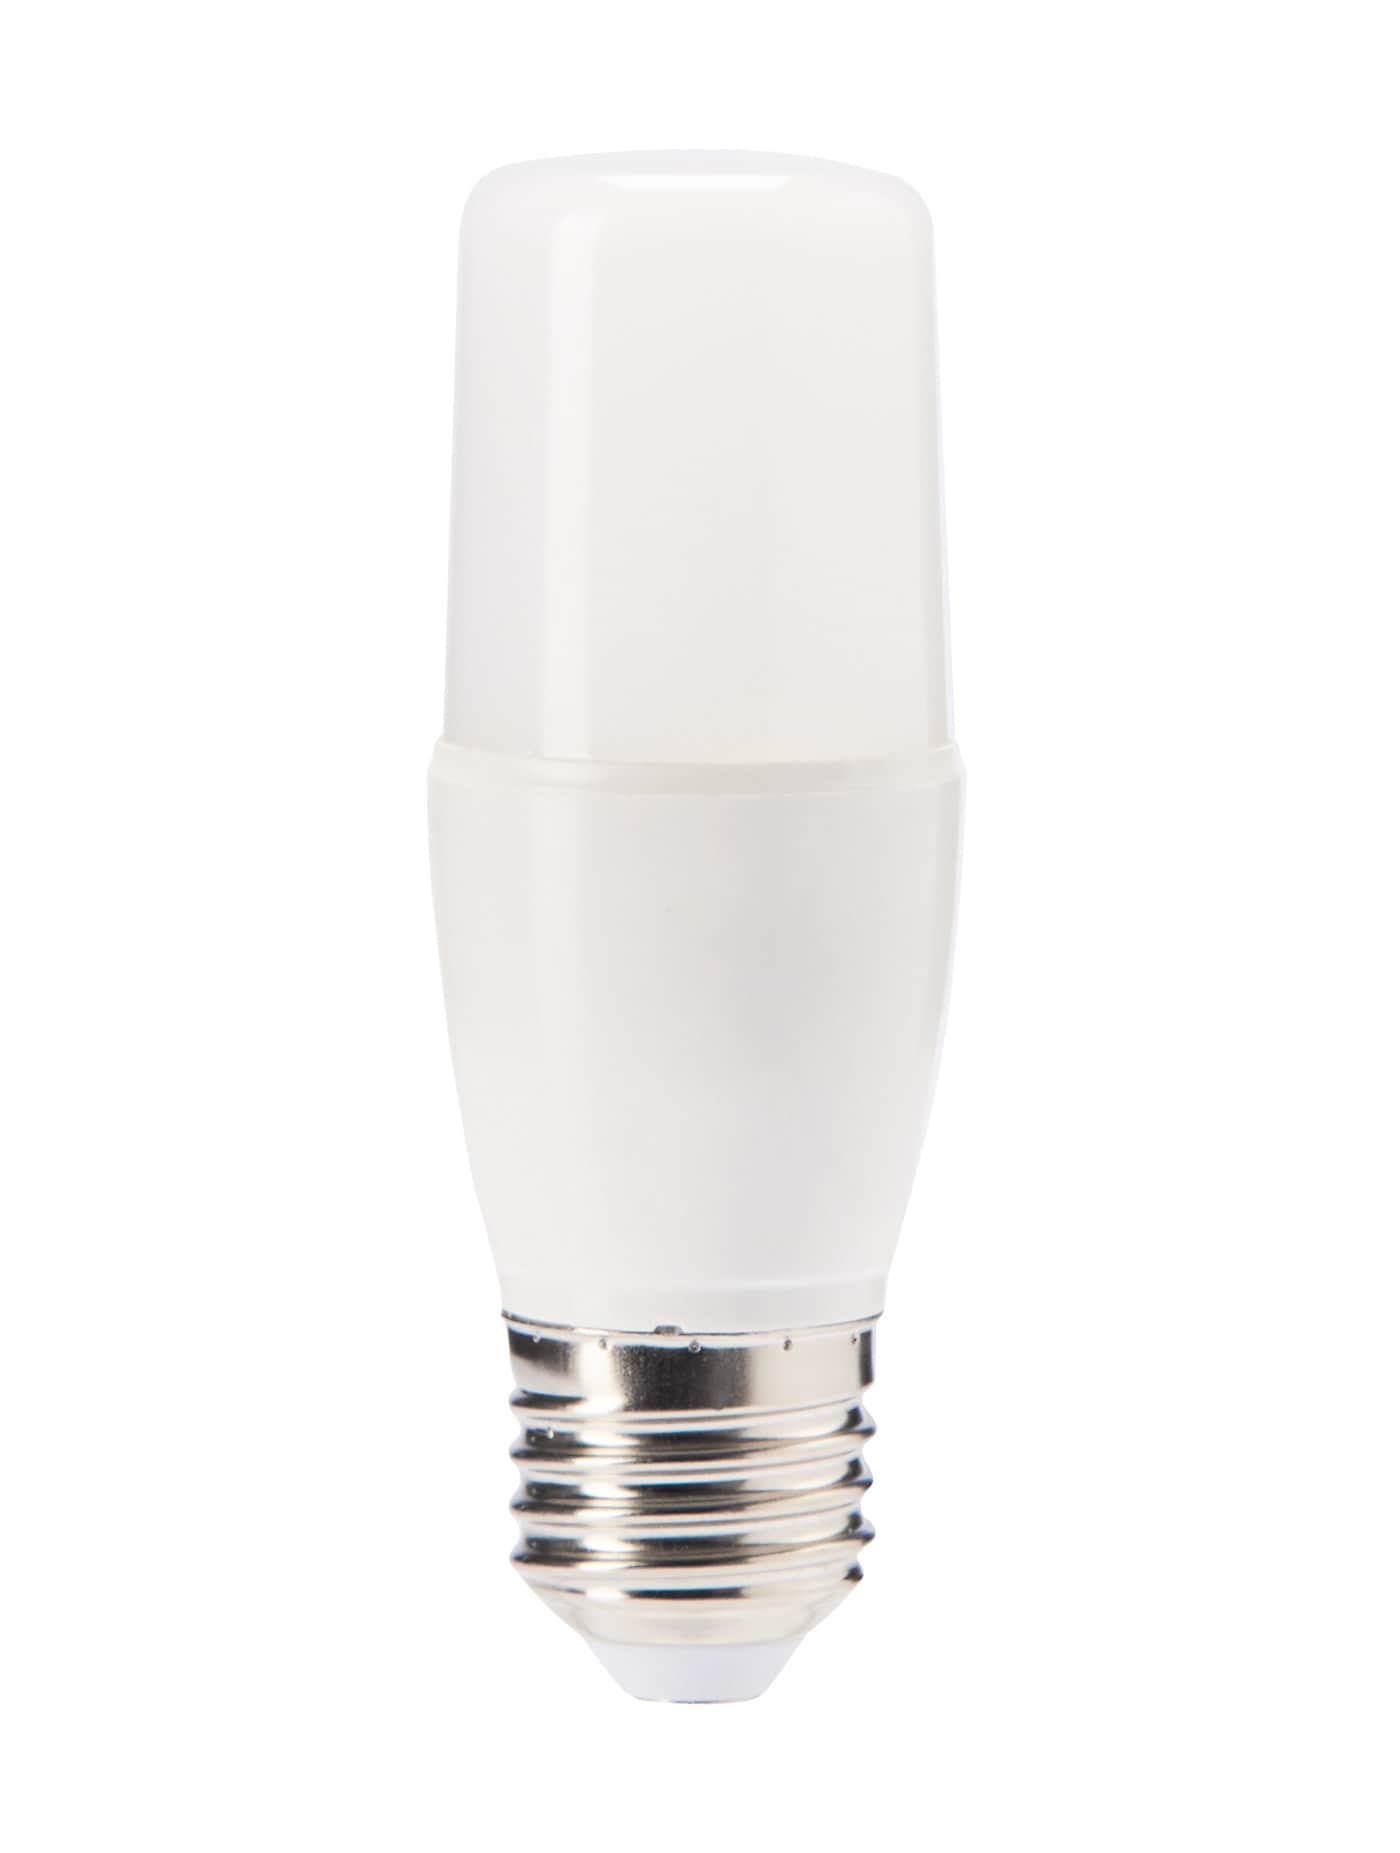Light_bulb: (391, 97, 975, 1724)
